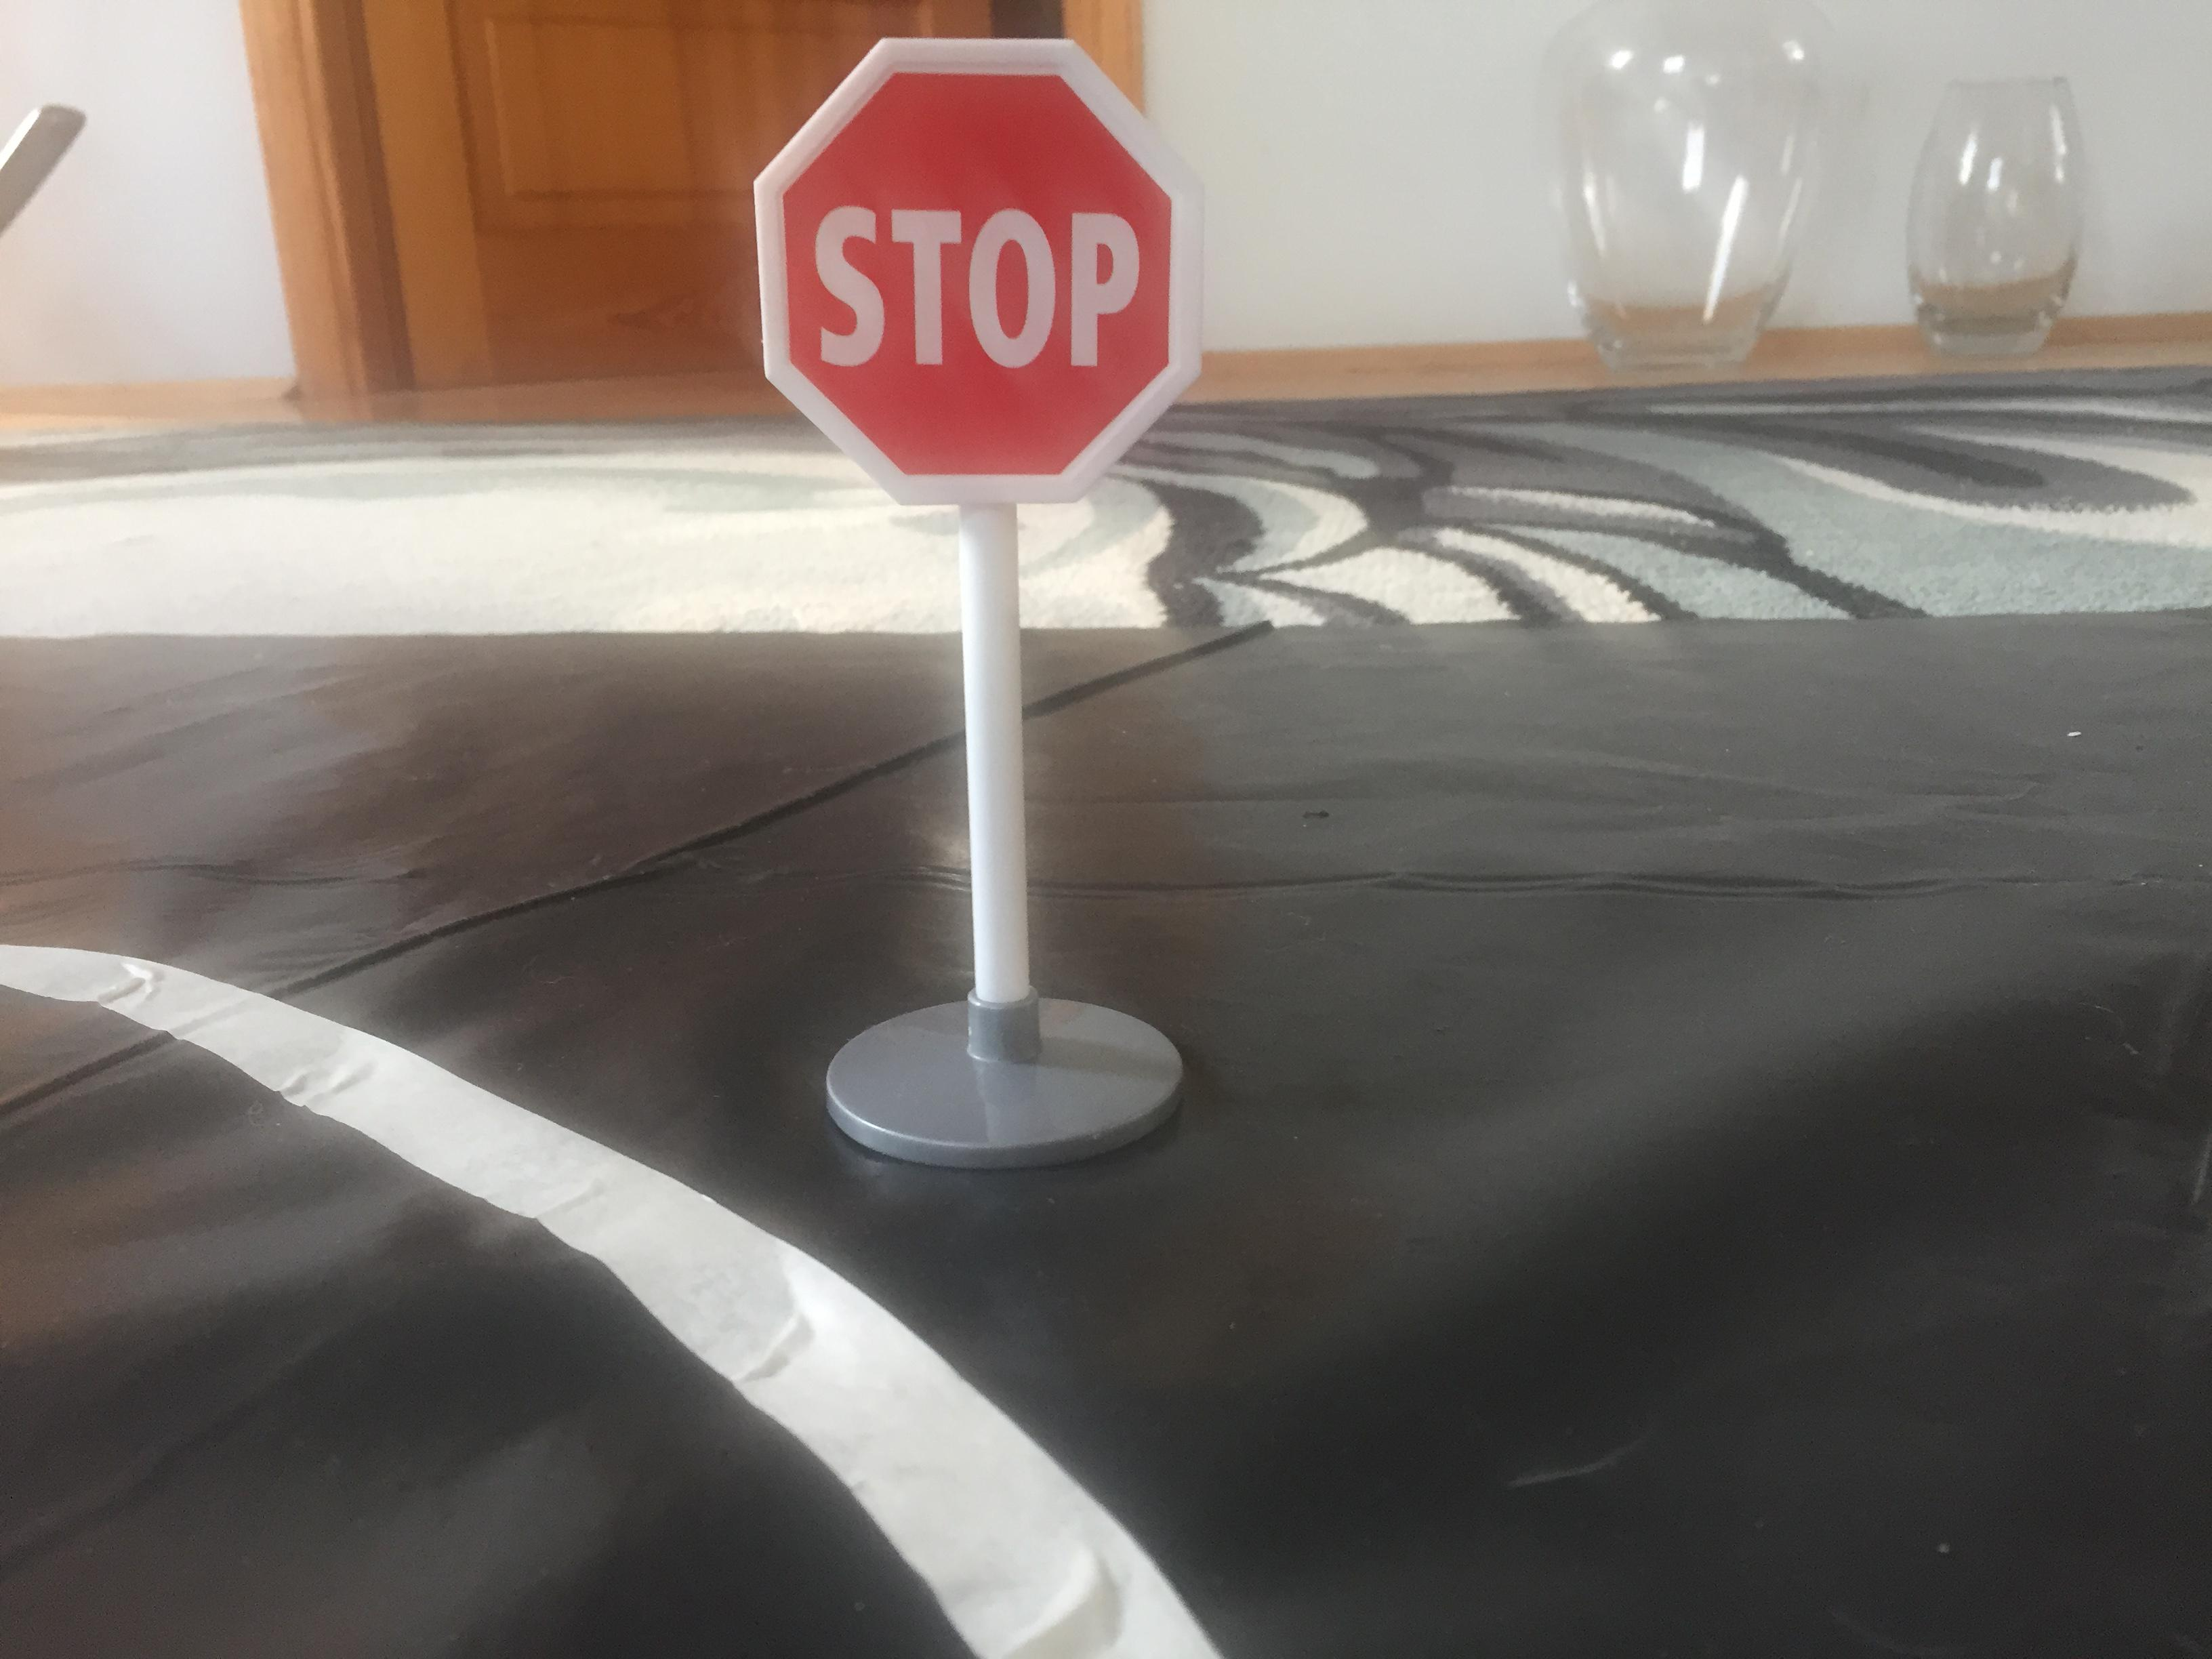stop: (747, 19, 1214, 512)
